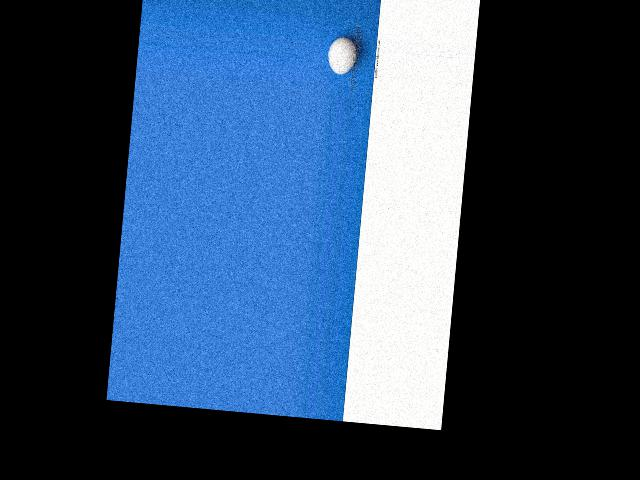egg: (327, 36, 359, 75)
